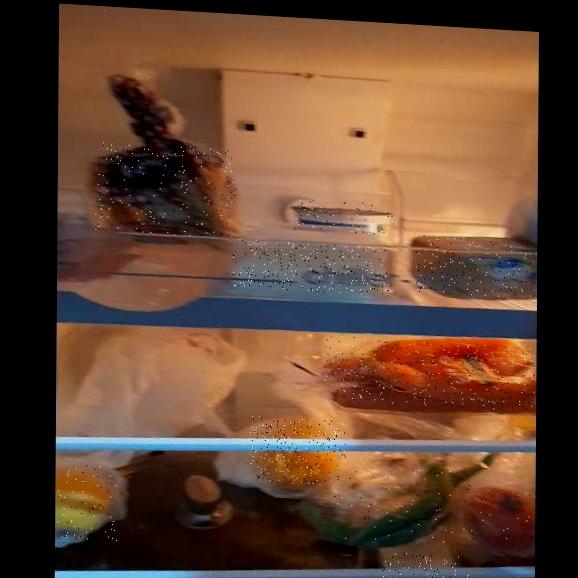bread: (96, 141, 236, 239)
butter: (416, 234, 535, 299)
carrot: (323, 335, 535, 412)
cheese: (232, 239, 389, 296)
green chilies: (320, 461, 456, 545)
lemon: (250, 416, 347, 487), (58, 464, 118, 542)
milk: (380, 552, 473, 578)
tomato: (463, 485, 532, 546)
yoghurt: (293, 198, 394, 235)
